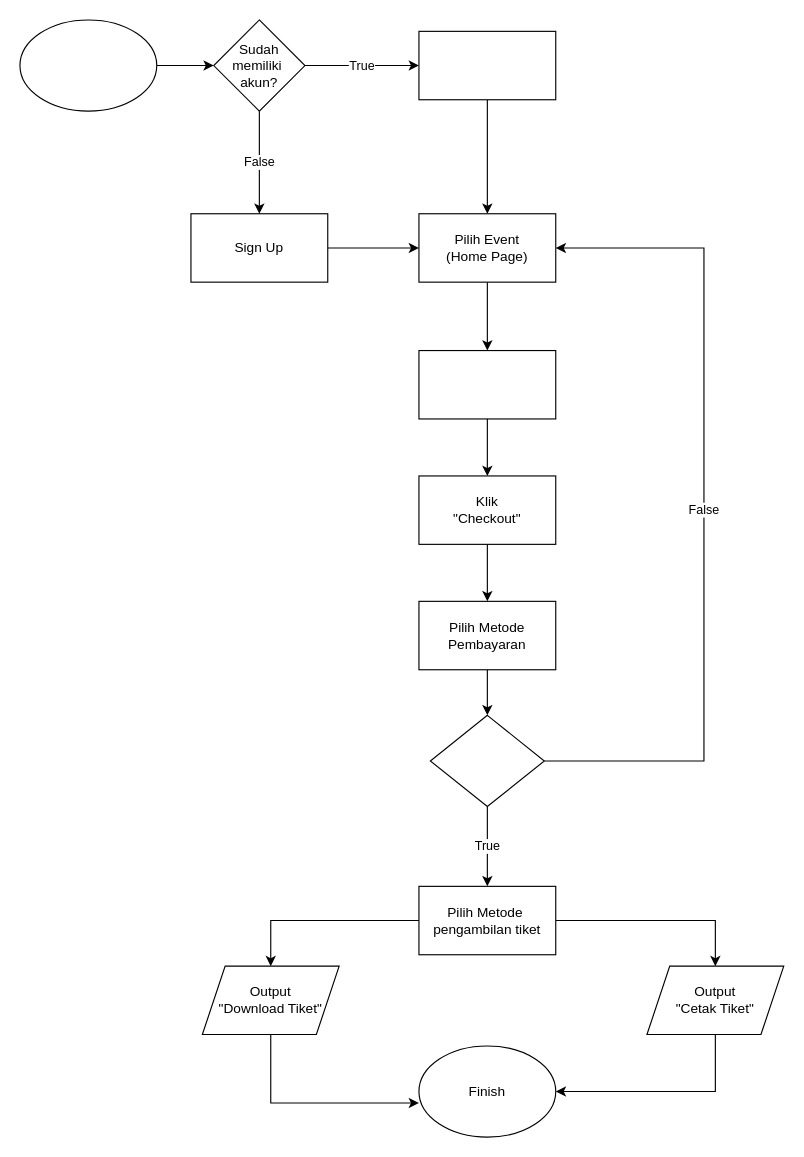
The diagram is 804 pixels wide and 1157 high, and some of its shapes have lost their labels. Here are the shapes that lost their labels. From the top down, the centre of each, then its label:
At point (88, 65): "Start".
At point (487, 65): "Sign In".
At point (487, 384): "Pilih Section (REG, VIP, VVIP)".
At point (486, 760): "Cek apakah sudah benar?".
